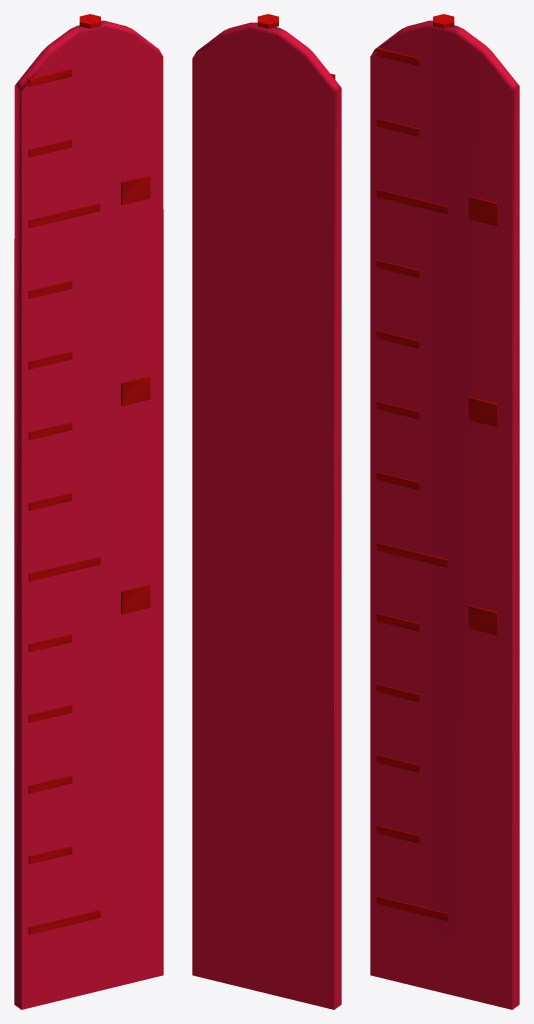
Rendered from CI_Kids_GrowthChart.glb.
3 renders of one model, left to right at view 1: azimuth 30°, elevation 25°; view 2: azimuth 150°, elevation 25°; view 3: azimuth 330°, elevation 25°, orthographic.
Visible parts, largest first — view 1: CI_Kids_GrowthChart; view 2: CI_Kids_GrowthChart; view 3: CI_Kids_GrowthChart.
Boxes of the visible parts, x1,y1,x2,y2 form: CI_Kids_GrowthChart: (14, 14, 163, 1009); CI_Kids_GrowthChart: (192, 14, 341, 1009); CI_Kids_GrowthChart: (370, 14, 519, 1009).
Bounding box in the file's own units: 0.2 × 1.31 × 0.026.
